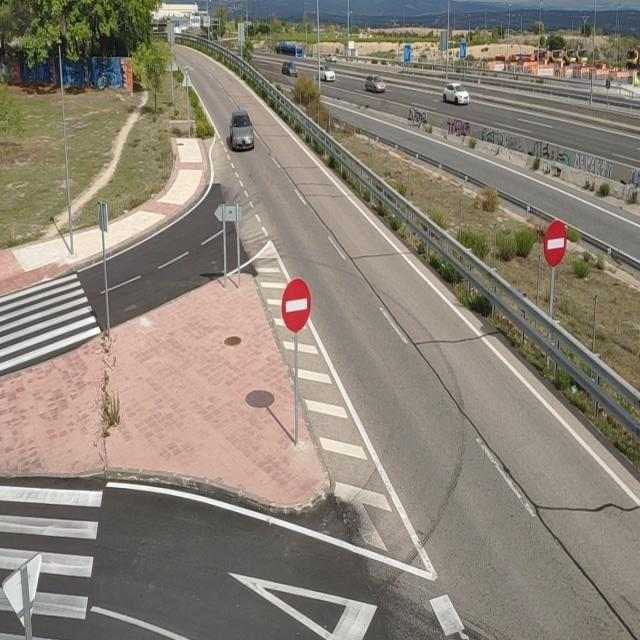Bus: (275, 42, 304, 57)
Car: (228, 110, 256, 152), (442, 82, 469, 106), (364, 74, 386, 94), (282, 61, 298, 78), (320, 64, 335, 82), (325, 52, 337, 63)
